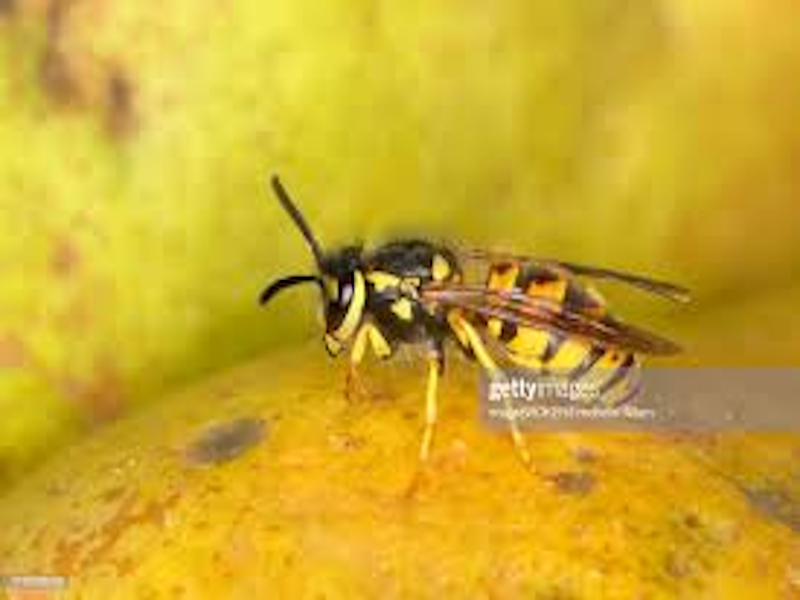chax: (222, 158, 692, 482)
